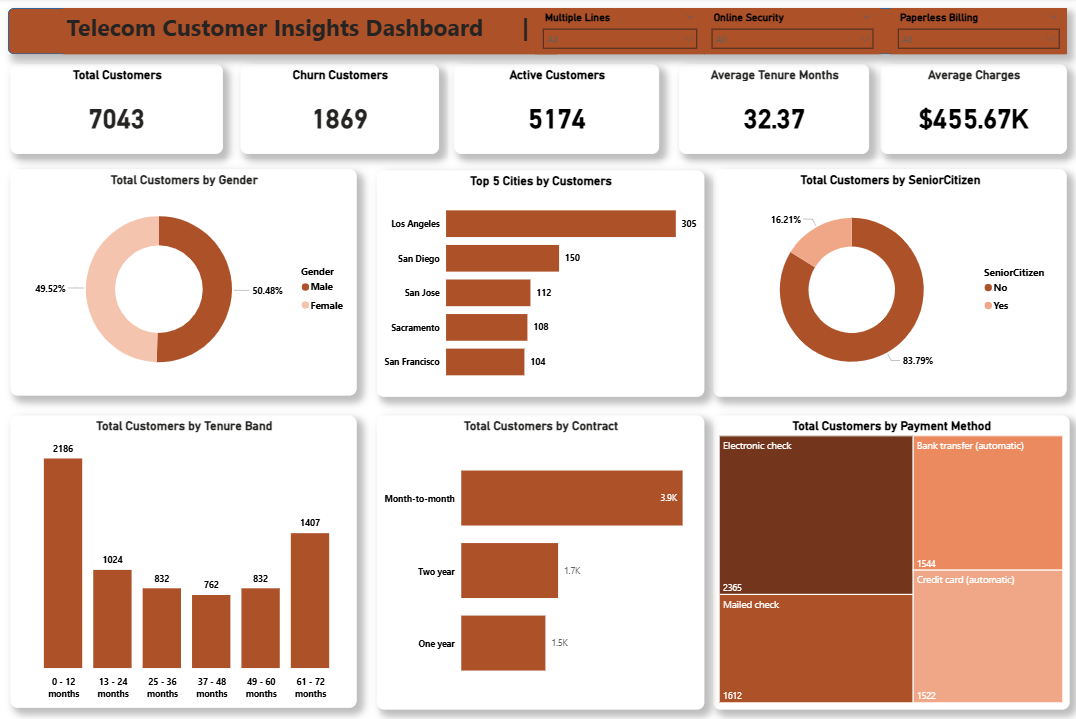

Layout of this report page (visuals, bound fields, positions):
{"tool":"powerbi","page":{"name":"Telecom_Customer","canvas":[1500,1000],"ordinal":0},"visuals":[{"type":"card","title":"Total Customers","fields":{"Values":["Measure Table.Total Customers"]},"box":[24.2,91.6,293.7,124.4],"z":0},{"type":"card","title":"Churn Customers","fields":{"Values":["Measure Table.Churn Customers"]},"box":[342.1,91.6,274.7,124.4],"z":1000},{"type":"card","title":"Active Customers","fields":{"Values":["Measure Table.Retained Customers"]},"box":[637.5,91.6,283.3,124.4],"z":2000},{"type":"card","title":"Average Charges","fields":{"Values":["Measure Table.Average Charges"]},"box":[1226.7,91.6,257.4,124.4],"z":3000},{"type":"donutChart","fields":{"Category":["Telco_Customer.Gender"],"Y":["Measure Table.Total Customers"]},"box":[24.2,236.7,478.6,312.7],"z":5000},{"type":"donutChart","fields":{"Category":["Telco_Customer.SeniorCitizen"],"Y":["Measure Table.Total Customers"]},"box":[995.2,236.7,488.9,314.4],"z":6000},{"type":"clusteredColumnChart","fields":{"Category":["Telco_Customer.Tenure Band"],"Y":["Measure Table.Total Customers"]},"box":[24.2,577.1,478.6,404.3],"z":7000},{"type":"treemap","fields":{"Group":["Telco_Customer.Payment Method"],"Values":["Measure Table.Total Customers"]},"box":[995.2,577.1,492.4,406],"z":8000},{"type":"card","title":"Average Tenure Months","fields":{"Values":["Measure Table.Average Tenure Months"]},"box":[948.5,91.6,262.6,124.4],"z":8001},{"type":"clusteredBarChart","title":"Total 5 City by Customers","fields":{"Category":["Telco_Customer.City"],"Y":["Measure Table.Total Customers"]},"box":[530.4,238.4,452.7,312.7],"z":8002},{"type":"clusteredBarChart","fields":{"Category":["Telco_Customer.Contract"],"Y":["Measure Table.Total Customers"]},"box":[530.4,577.1,452.7,406],"z":8003},{"type":"shape","box":[20.7,13.8,1463.4,63.9],"z":8004},{"type":"textbox","box":[96.8,13.8,682.5,63.9],"z":8005},{"type":"slicer","fields":{"Values":["Telco_Customer.Paperless Billing"]},"box":[1240.5,13.8,243.6,63.9],"z":8006},{"type":"slicer","fields":{"Values":["Telco_Customer.Online Security"]},"box":[983.1,13.8,243.6,63.9],"z":8007},{"type":"slicer","fields":{"Values":["Telco_Customer.Multiple Lines"]},"box":[749.8,13.8,233.2,63.9],"z":8008}]}

Visuals, with their boxes in screenshot pixels (x1, y1, x2, y2), scaled from the page's 1500x1000 canvas onto the 1076x719 screenshot:
"Total Customers" card: locate(17, 66, 228, 155)
"Churn Customers" card: locate(245, 66, 442, 155)
"Active Customers" card: locate(457, 66, 661, 155)
"Average Charges" card: locate(880, 66, 1065, 155)
donutChart - Telco_Customer.Gender x Measure Table.Total Customers: locate(17, 170, 361, 395)
donutChart - Telco_Customer.SeniorCitizen x Measure Table.Total Customers: locate(714, 170, 1065, 396)
clusteredColumnChart - Telco_Customer.Tenure Band x Measure Table.Total Customers: locate(17, 415, 361, 706)
treemap - Telco_Customer.Payment Method x Measure Table.Total Customers: locate(714, 415, 1067, 707)
"Average Tenure Months" card: locate(680, 66, 869, 155)
"Total 5 City by Customers" clusteredBarChart: locate(380, 171, 705, 396)
clusteredBarChart - Telco_Customer.Contract x Measure Table.Total Customers: locate(380, 415, 705, 707)
shape: locate(15, 10, 1065, 56)
textbox: locate(69, 10, 559, 56)
slicer - Telco_Customer.Paperless Billing: locate(890, 10, 1065, 56)
slicer - Telco_Customer.Online Security: locate(705, 10, 880, 56)
slicer - Telco_Customer.Multiple Lines: locate(538, 10, 705, 56)
